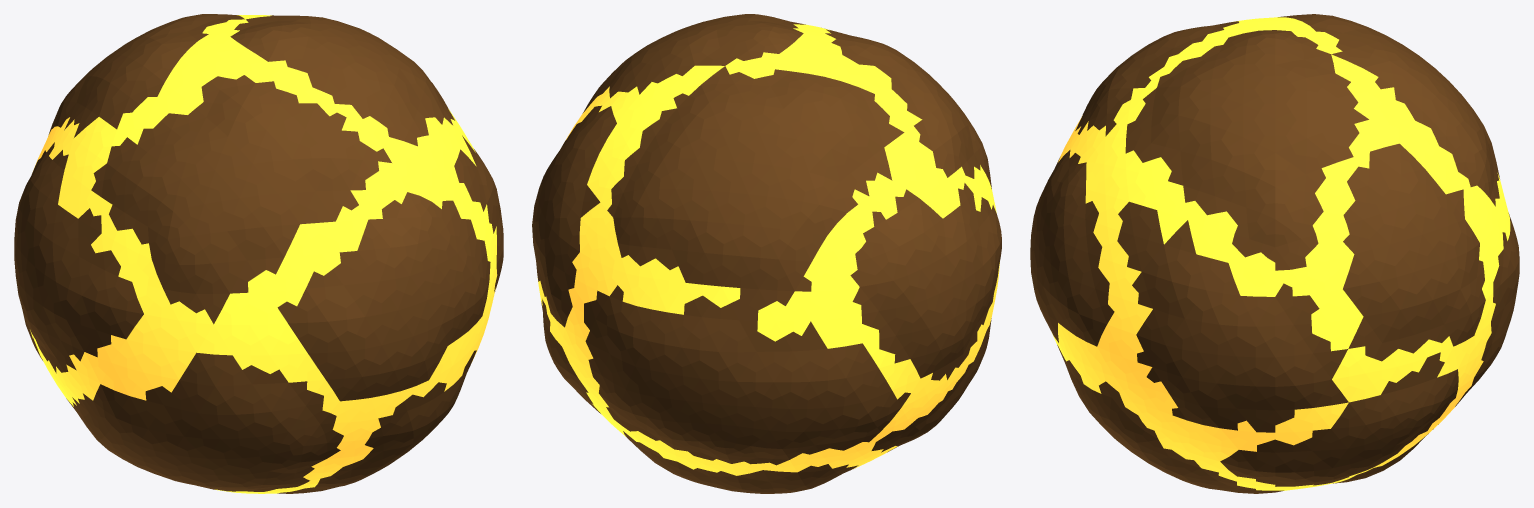
Rendered from lava.glb.
3 views of the same model, side by side, from view 1: azimuth 30°, elevation 25°; view 2: azimuth 150°, elevation 25°; view 3: azimuth 270°, elevation 25° (orthographic). The views are drawn at different scales.
Parts seen in each view (by area): view 1: Icosphere.003; view 2: Icosphere.003; view 3: Icosphere.003.
Part boxes in pixels (left/top/right/bottom): Icosphere.003: left=14, top=14, right=503, bottom=493; Icosphere.003: left=532, top=14, right=1001, bottom=493; Icosphere.003: left=1030, top=14, right=1519, bottom=493.
Size of the model in its own units: 1.98 by 1.97 by 1.99.
